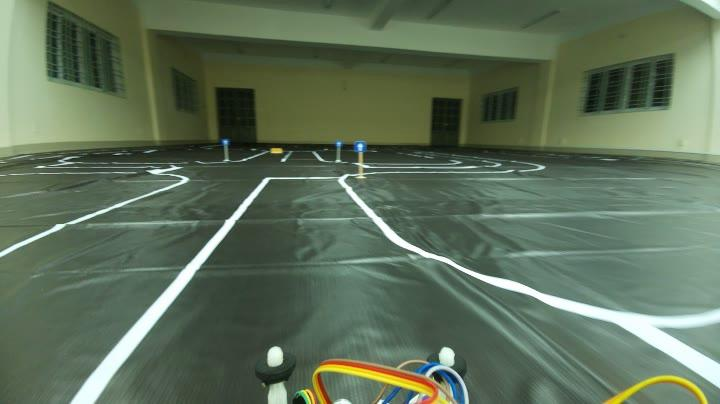onewayroad: (354, 139, 370, 153), (333, 138, 344, 148), (221, 137, 228, 147)
roadblock: (268, 146, 284, 156)
